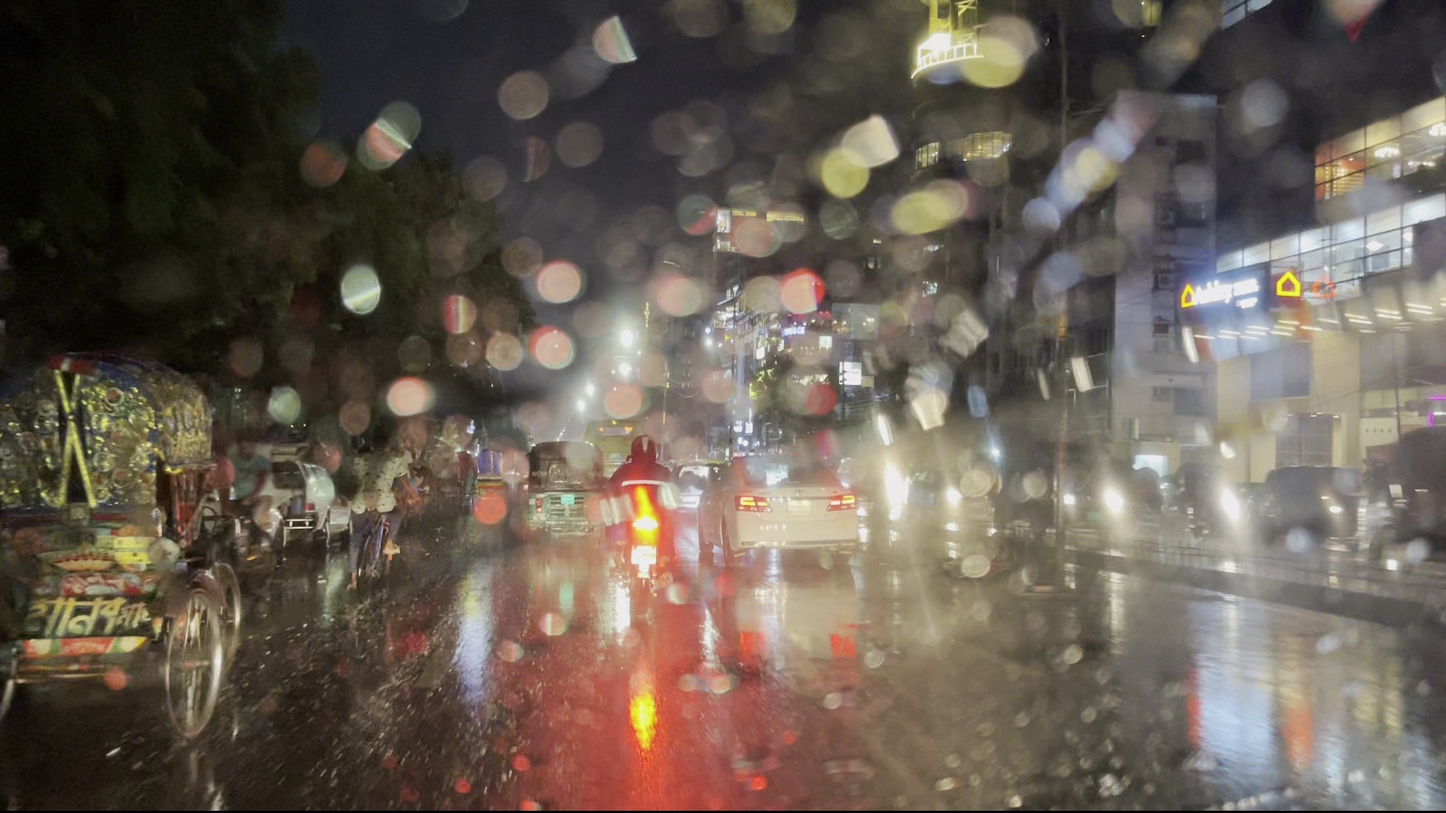bicycle: (197, 421, 294, 601), (331, 419, 423, 593)
car: (695, 447, 862, 572)
motorbike: (594, 432, 694, 627)
